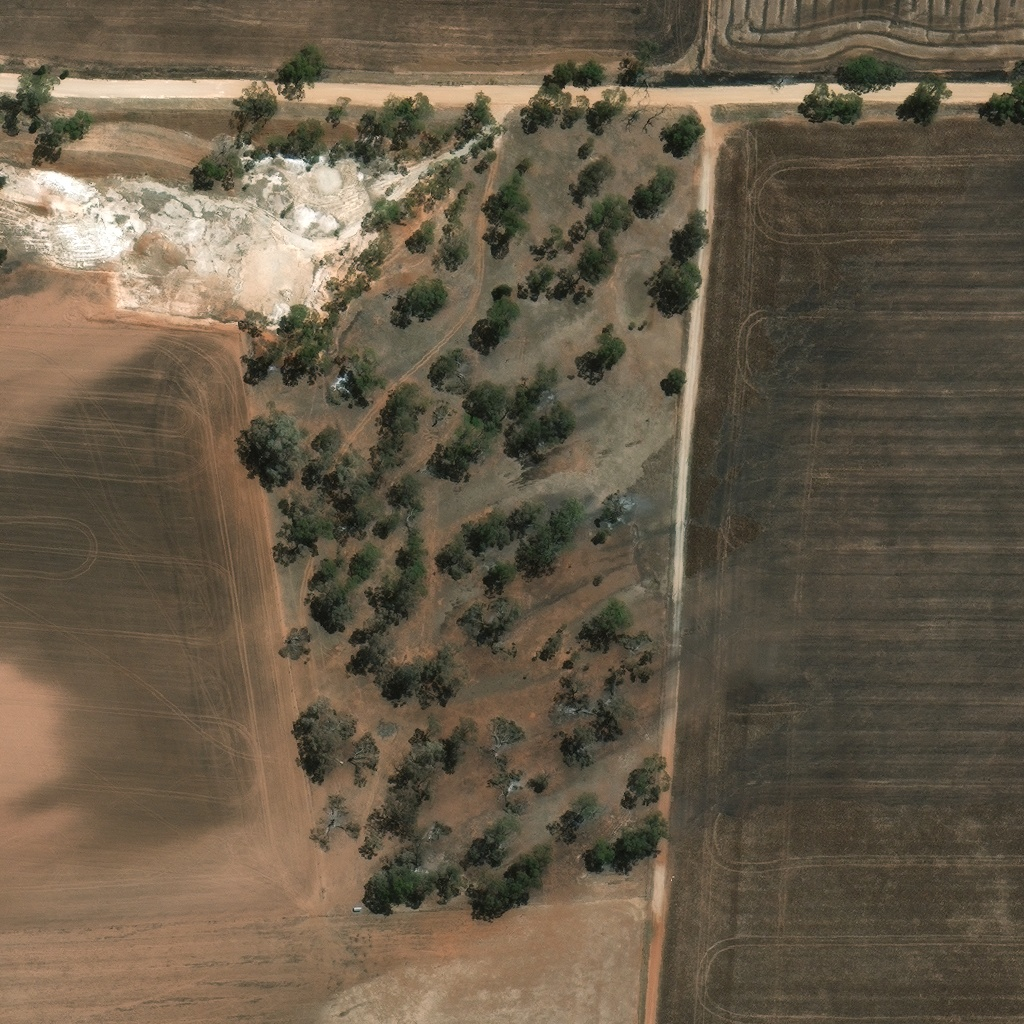4 un-classified: (350, 960, 360, 969), (373, 978, 382, 984)
